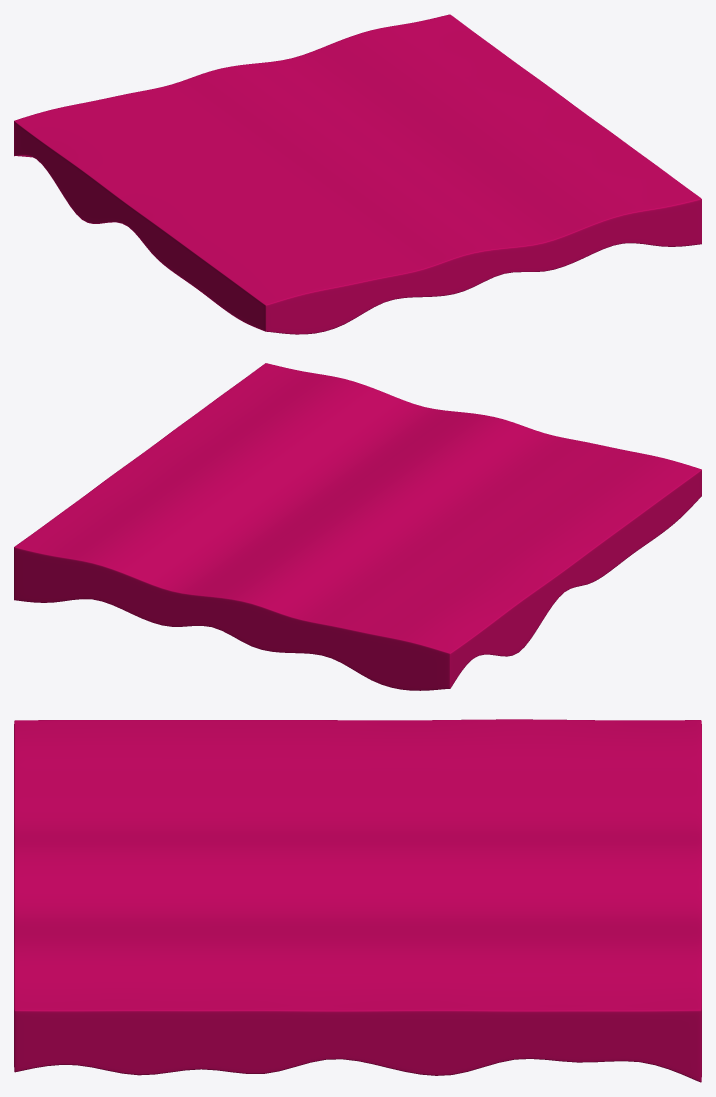
The model's file is 02_PapillaryDermis_visual.obj.
3 views of the same model, one above another, from view 1: azimuth 30°, elevation 25°; view 2: azimuth 150°, elevation 25°; view 3: azimuth 270°, elevation 25° (orthographic). The views are drawn at different scales.
Parts seen in each view (by area): view 1: 02_PapillaryDermis_visual; view 2: 02_PapillaryDermis_visual; view 3: 02_PapillaryDermis_visual.
Boxes of the visible parts, box(x1,y1,x2,y2) form: 02_PapillaryDermis_visual: box(14, 14, 701, 334); 02_PapillaryDermis_visual: box(14, 363, 701, 690); 02_PapillaryDermis_visual: box(14, 719, 701, 1082).
Size of the model in its own units: 1.12 by 0.1382 by 1.12.
